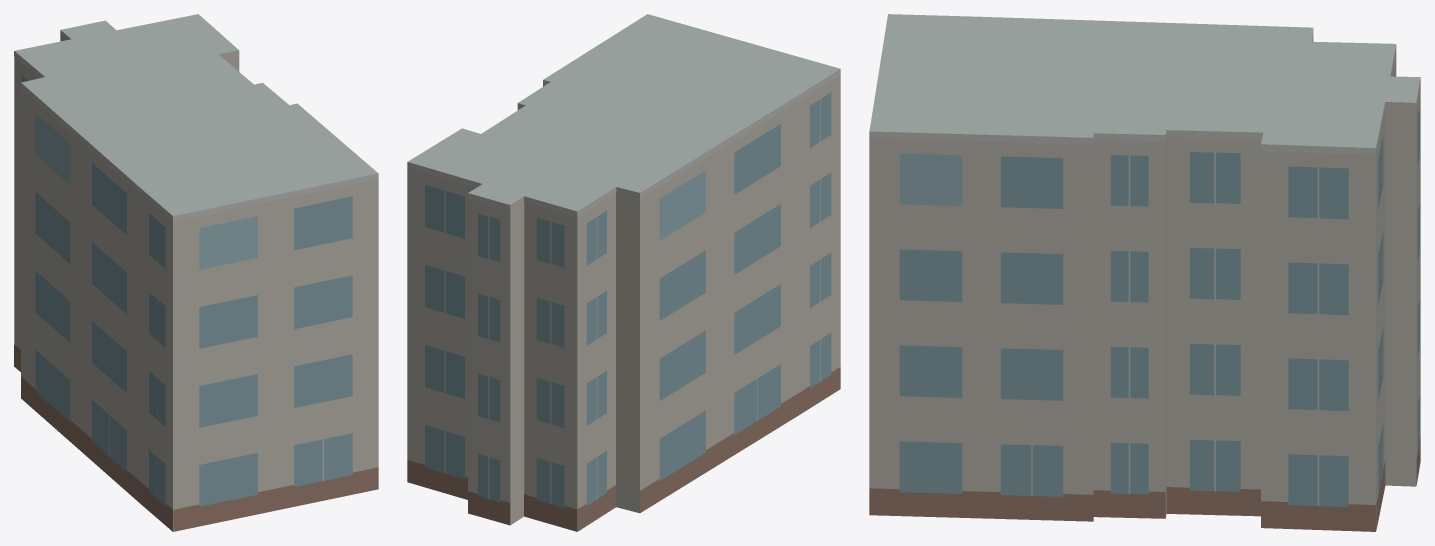
Rendered from survey-upis-32542334.glb.
The picture shows the model from 3 angles, left to right: view 1: azimuth 30°, elevation 25°; view 2: azimuth 150°, elevation 25°; view 3: azimuth 270°, elevation 25°; orthographic projection. The views are drawn at different scales.
Parts seen in each view (by area): view 1: survey-upis-32542334.tmp; view 2: survey-upis-32542334.tmp; view 3: survey-upis-32542334.tmp.
Boxes of the visible parts, x1,y1,x2,y2 form: survey-upis-32542334.tmp: [14, 14, 378, 531]; survey-upis-32542334.tmp: [407, 14, 840, 531]; survey-upis-32542334.tmp: [869, 14, 1420, 531].
Size of the model in its own units: 10.06 by 13.4 by 17.46.
